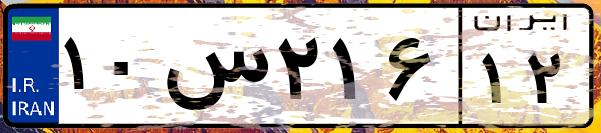0: (110, 28, 158, 98)
1: (330, 28, 385, 110), (57, 26, 110, 100), (475, 38, 525, 113)
2: (270, 28, 330, 110), (525, 38, 570, 115)
6: (385, 28, 445, 110)
س: (158, 20, 270, 120)
